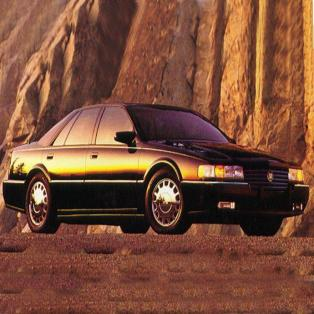Auto: (4, 105, 308, 234)
